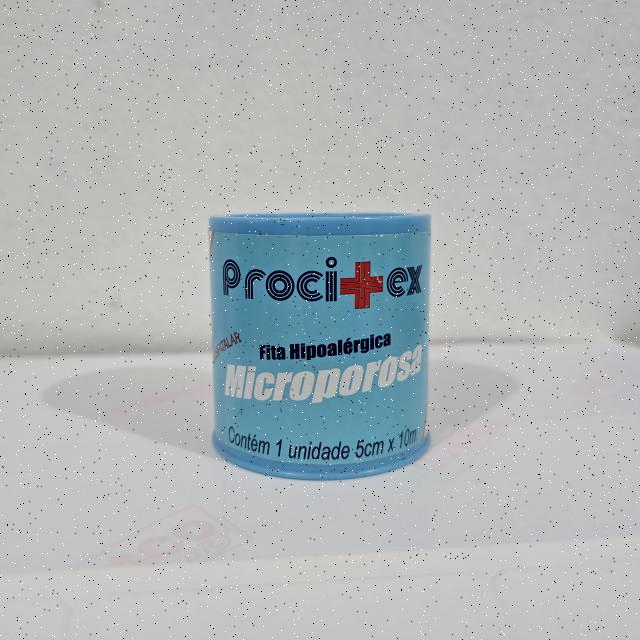procitex: (205, 207, 438, 483)
